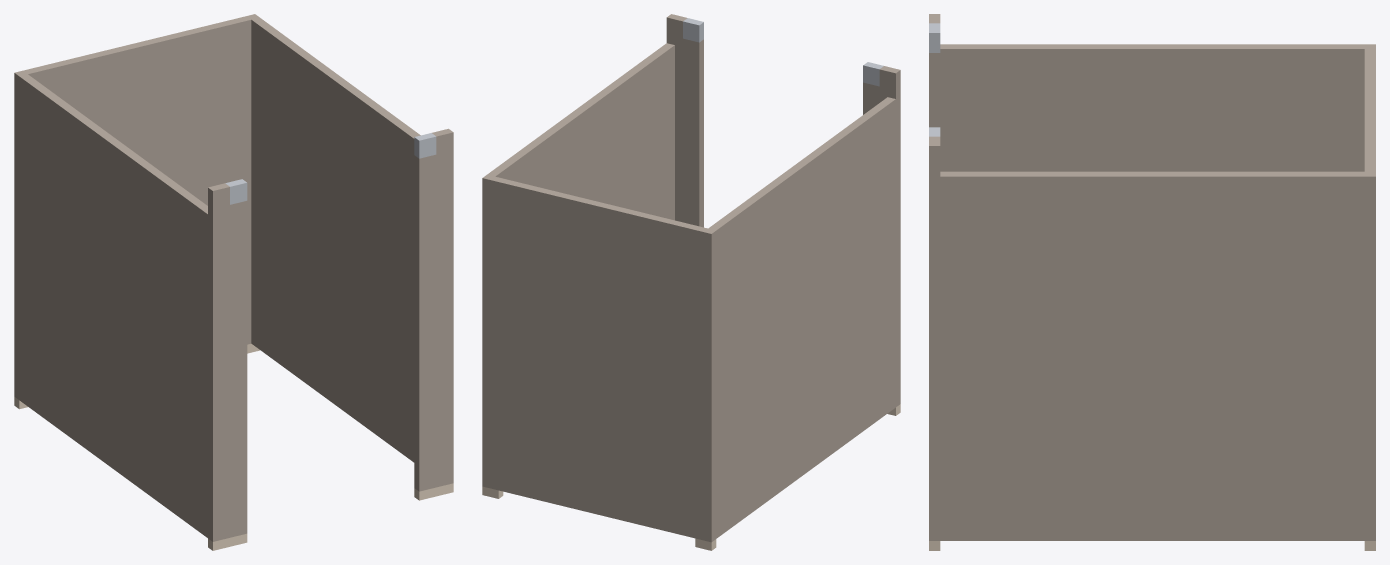
File: stall-box.obj
The picture shows the model from 3 angles, left to right: view 1: azimuth 30°, elevation 25°; view 2: azimuth 150°, elevation 25°; view 3: azimuth 270°, elevation 25°; orthographic projection. The views are drawn at different scales.
Bounding box in the file's own units: 2.8 × 4 × 4.
Materials: 1 (1 with a texture image).
